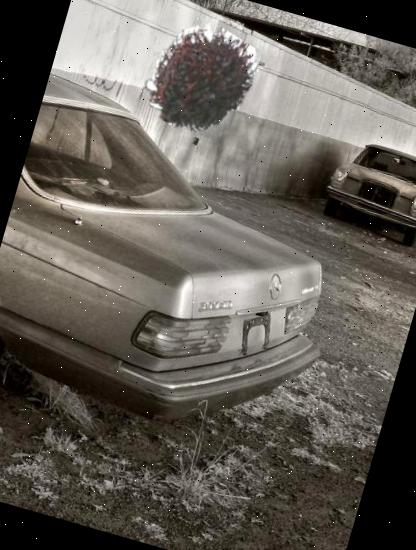Rambutan: (131, 10, 267, 146)
